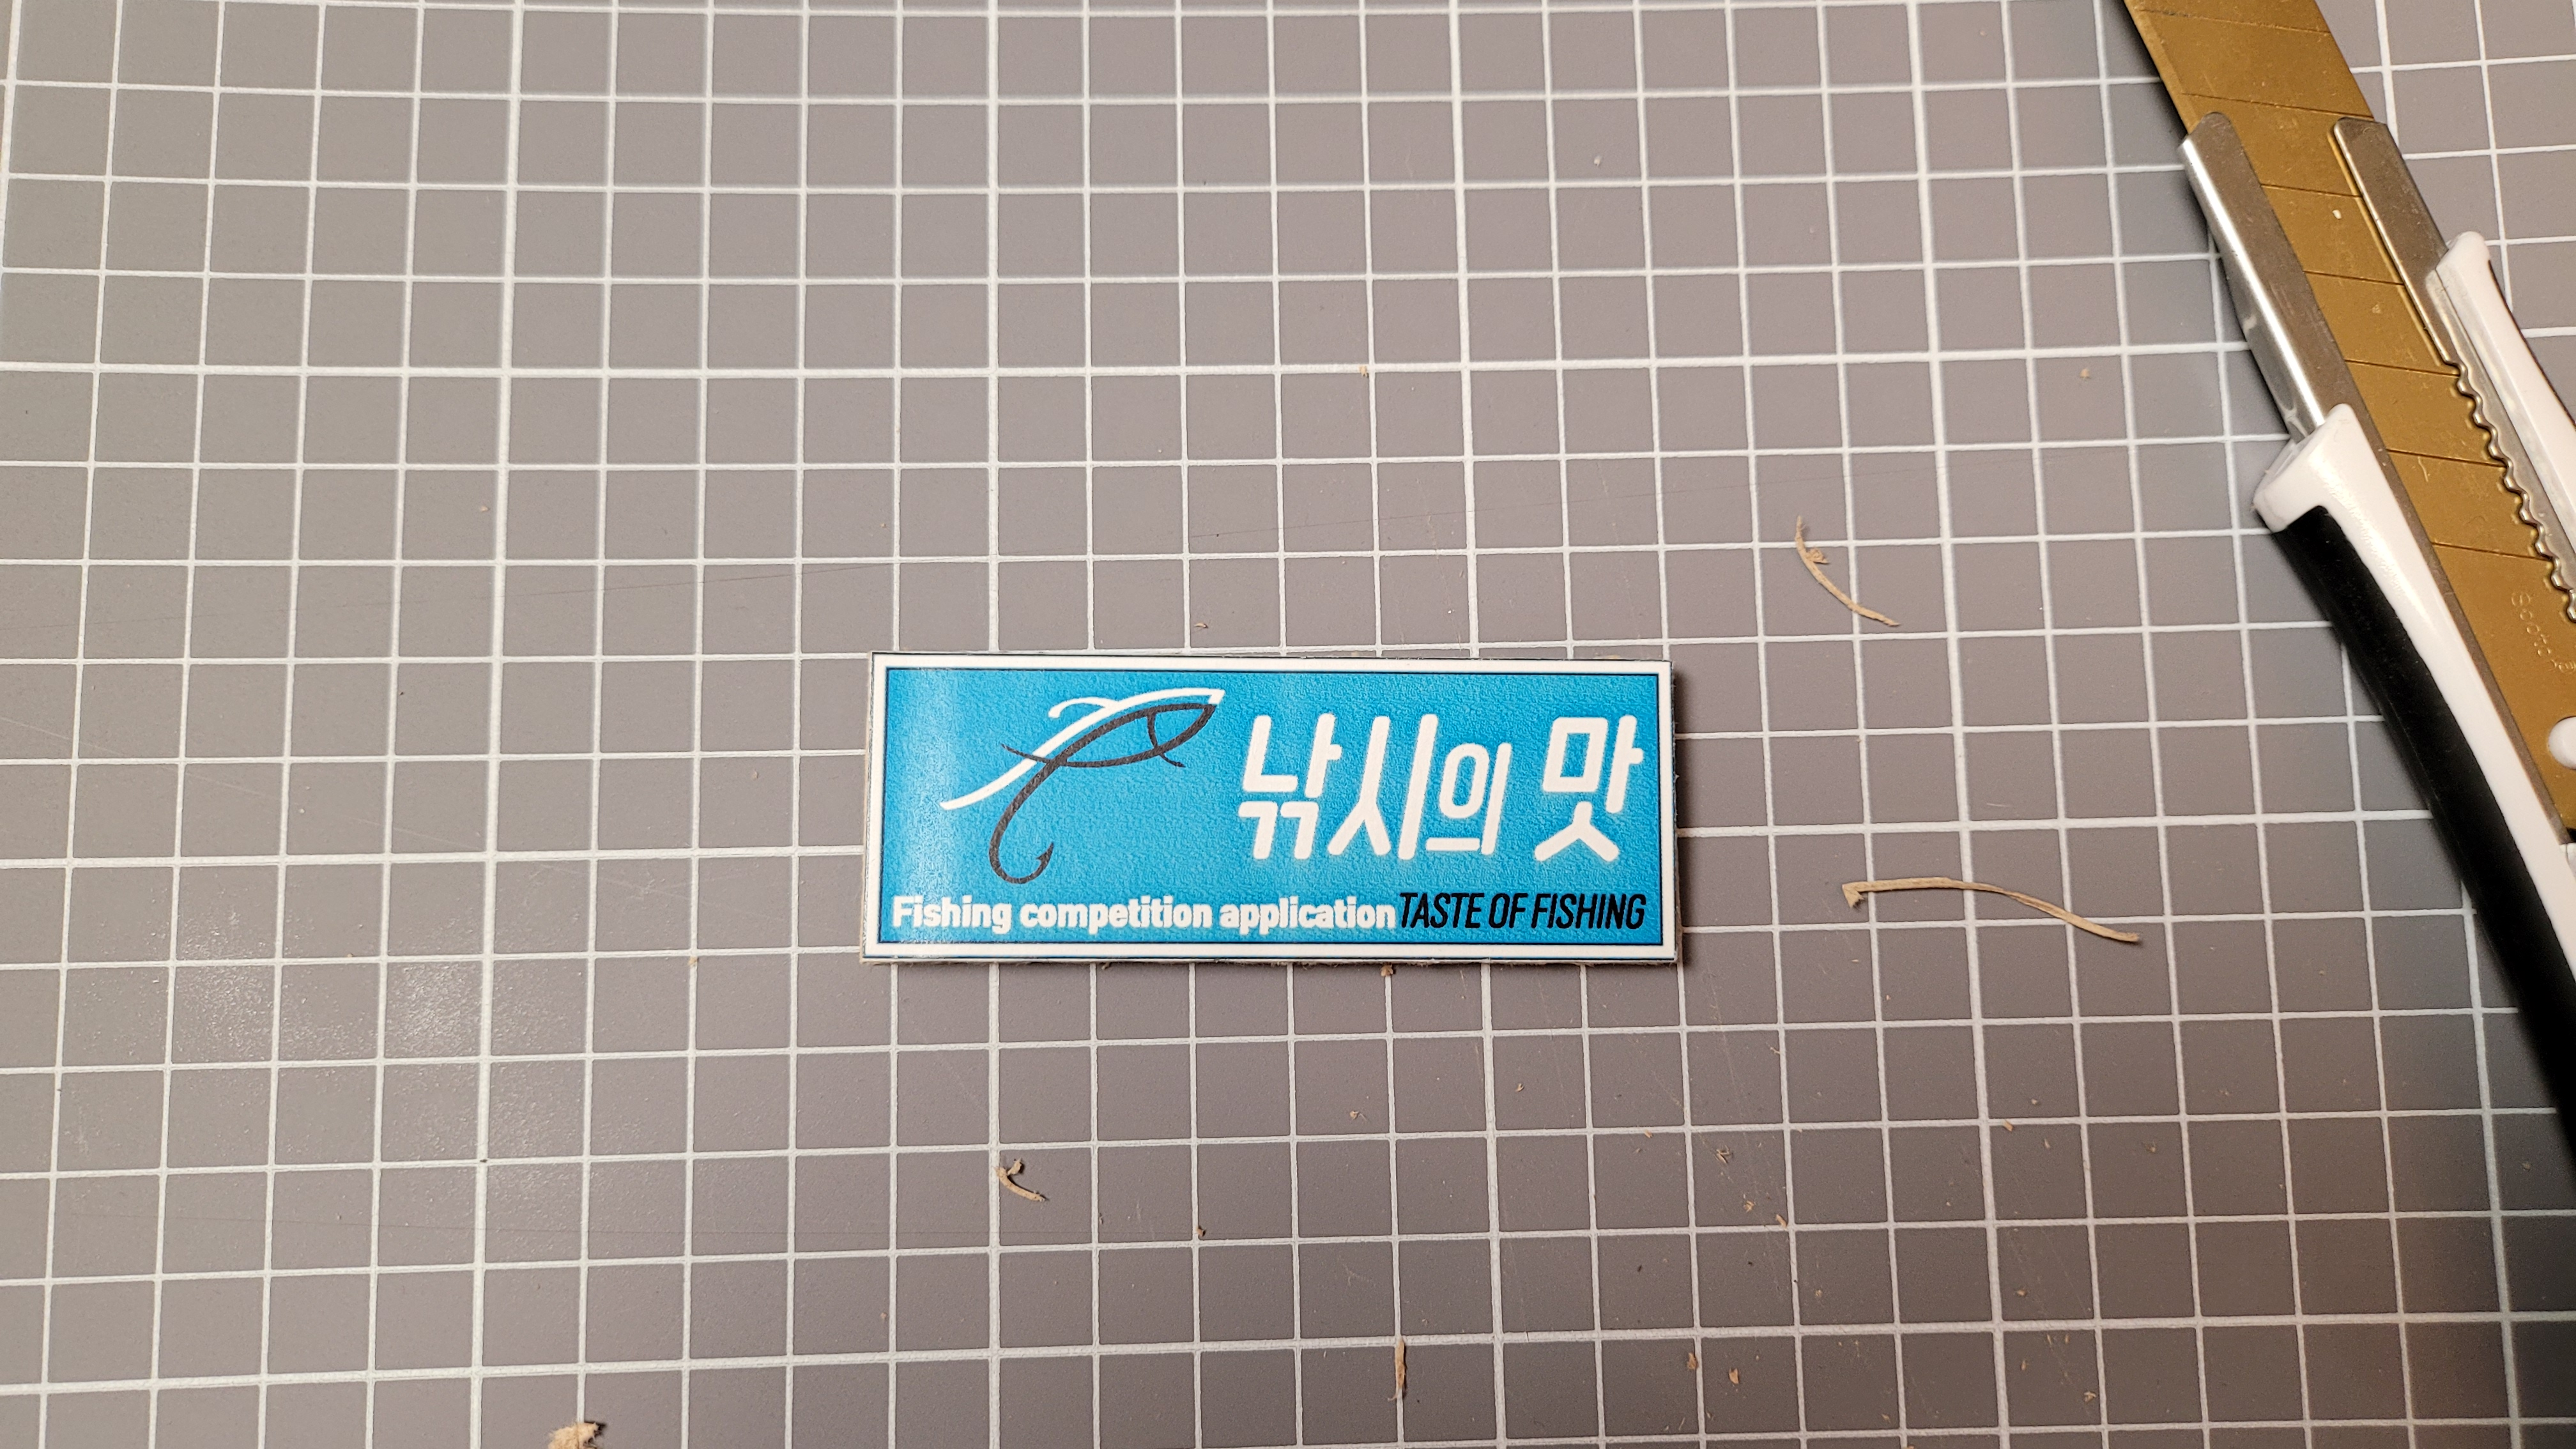tag: (876, 655, 1679, 968)
